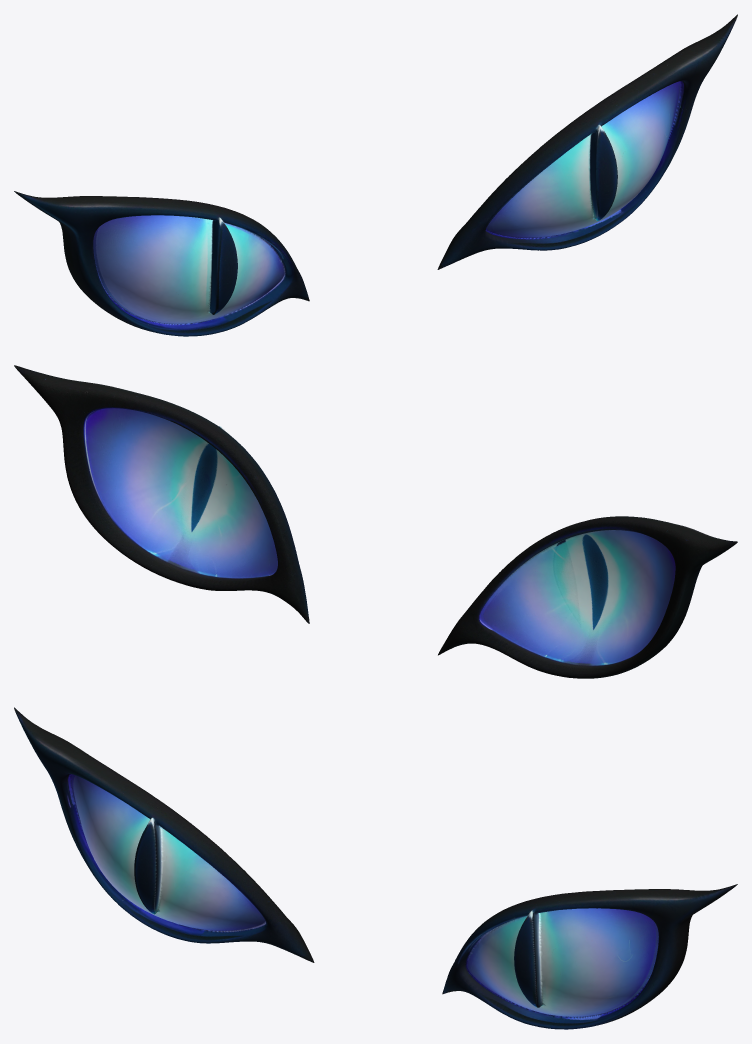
Rendered from kedi.glb.
The picture shows the model from 3 angles, top to bottom: view 1: azimuth 30°, elevation 25°; view 2: azimuth 150°, elevation 25°; view 3: azimuth 330°, elevation 25°; orthographic projection.
Bounding box in the file's own units: 1.9 × 0.4625 × 0.2323.
Materials: 1 (1 with a texture image).
